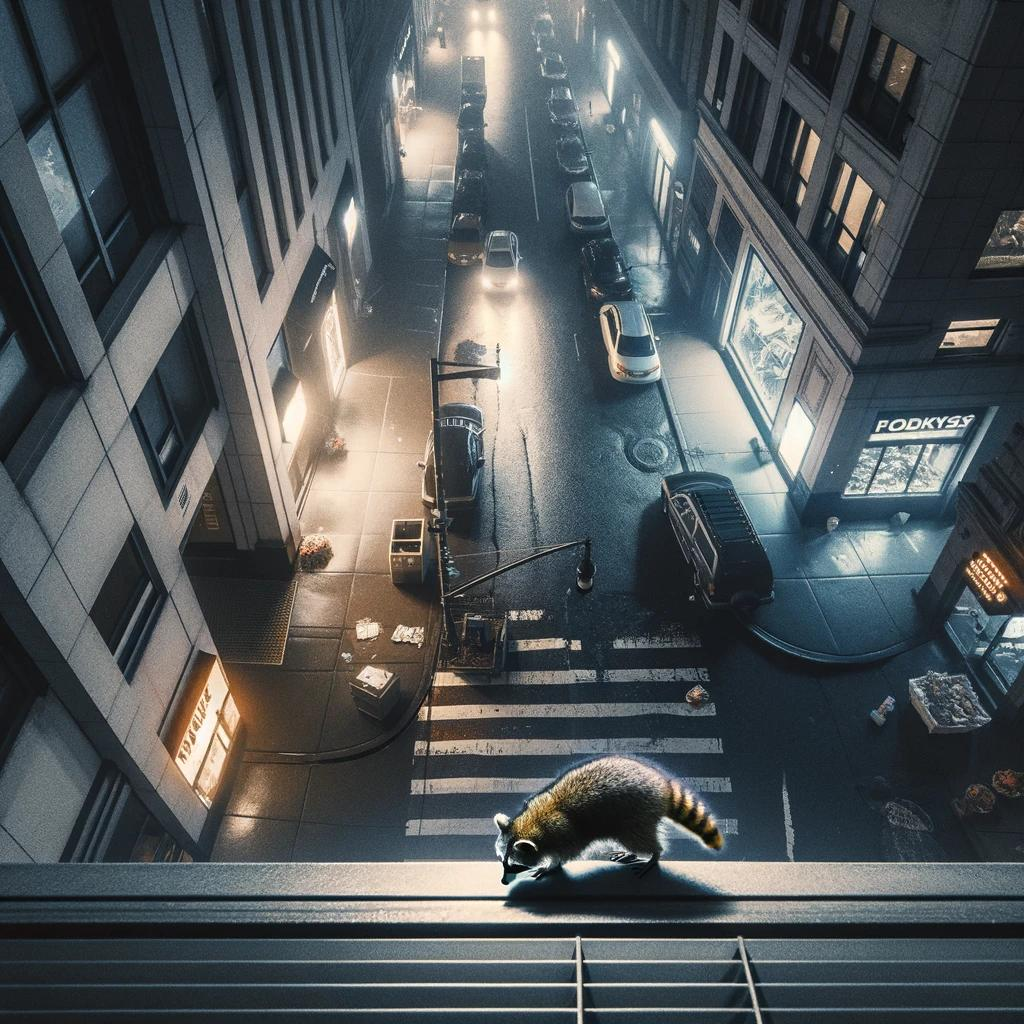raccoon: (470, 740, 737, 903)
